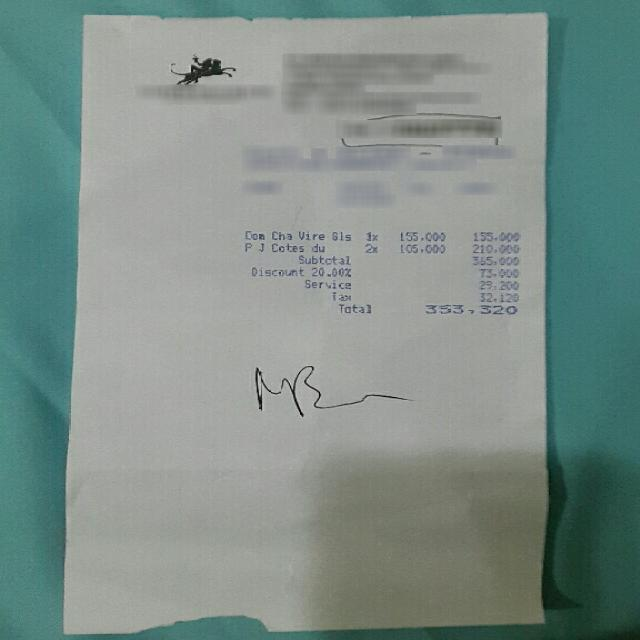kertas: (61, 14, 548, 633)
